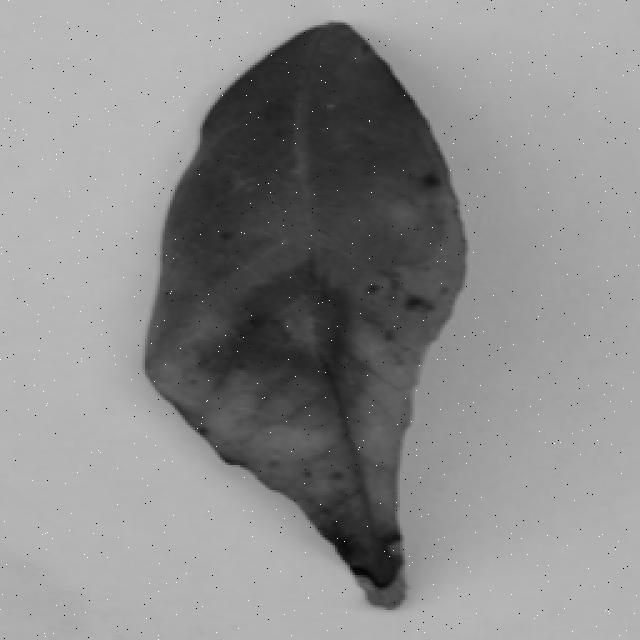blackspot: (125, 16, 529, 620)
